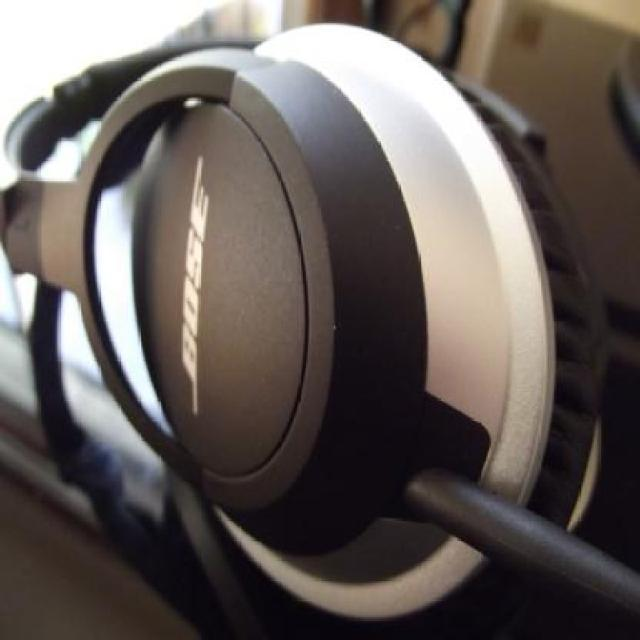earphone: (74, 40, 625, 571)
